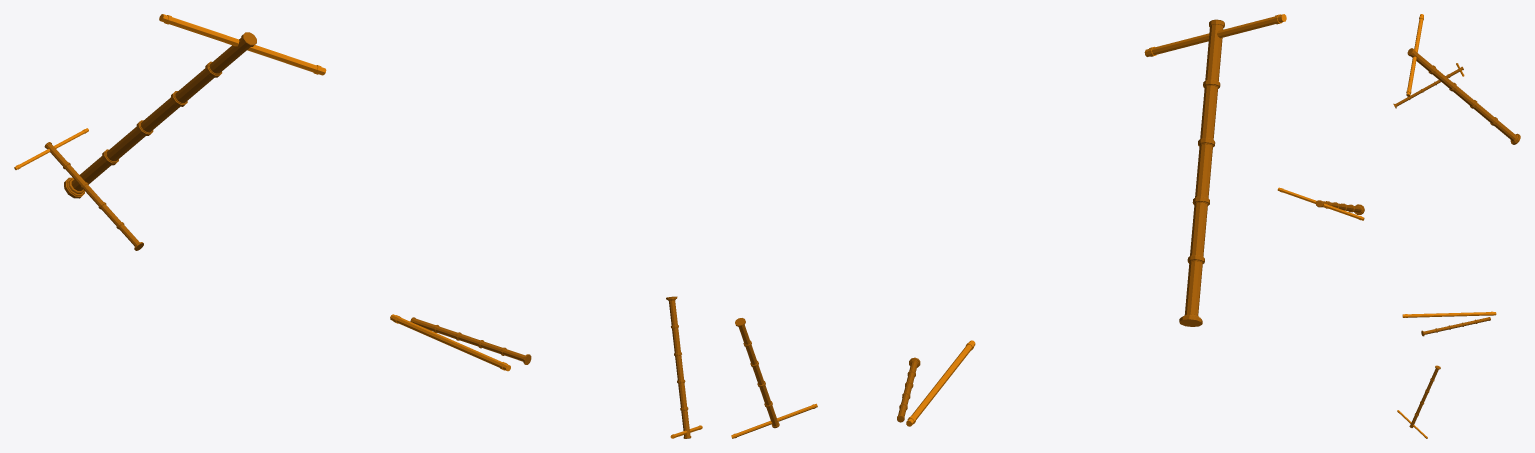
The model's file is FlagPolesMesh.fbx.
3 views of the same model, side by side, from view 1: azimuth 30°, elevation 25°; view 2: azimuth 150°, elevation 25°; view 3: azimuth 270°, elevation 25° (orthographic). The views are drawn at different scales.
Parts seen in each view (by area): view 1: pCylinder1 (×3), pCylinder2, pCylinder3, pCylinder4; view 2: pCylinder1 (×2), pCylinder2, pCylinder4; view 3: pCylinder1 (×3), pCylinder4, pCylinder2, pCylinder3.
Boxes of the visible parts, <box> form: pCylinder1 (×3): <box>44,32,691,438</box>; pCylinder2: <box>159,14,326,75</box>; pCylinder3: <box>410,317,531,364</box>; pCylinder4: <box>390,314,510,371</box>; pCylinder1 (×2): <box>735,19,1224,428</box>; pCylinder2: <box>1144,14,1286,56</box>; pCylinder4: <box>906,340,975,426</box>; pCylinder1 (×3): <box>1393,48,1520,427</box>; pCylinder4: <box>1402,311,1496,317</box>; pCylinder2: <box>1406,14,1423,96</box>; pCylinder3: <box>1421,317,1490,336</box>.
Size of the model in its own units: 1302 by 1041 by 419.
